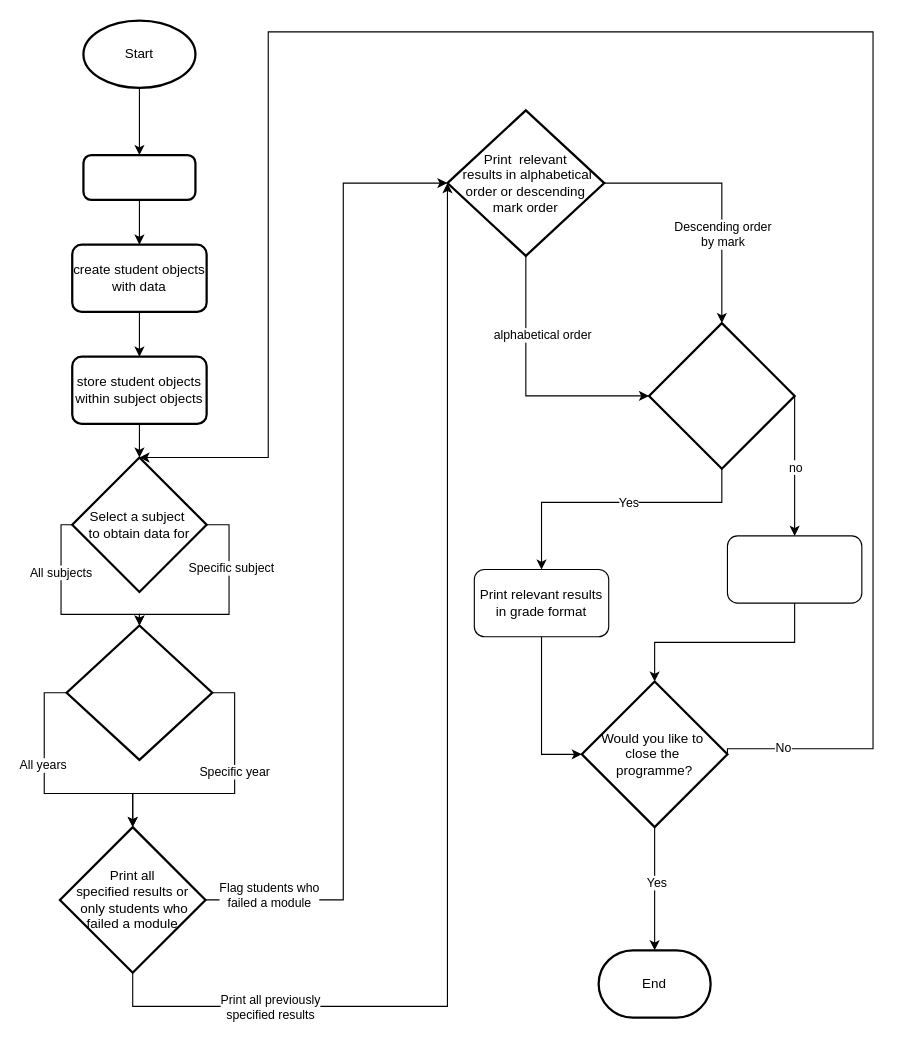
Some shapes in this 902 by 1040 pixel diagram are drawn without their labels. Each missing label, with the centre of its shape:
Print relevant results in mark format: (x=794, y=569)
Print the marks of the relevant results in "grade name" format?: (x=721, y=395)
Read data file: (x=139, y=176)
Select a graduation year that the data should be from: (x=139, y=692)
